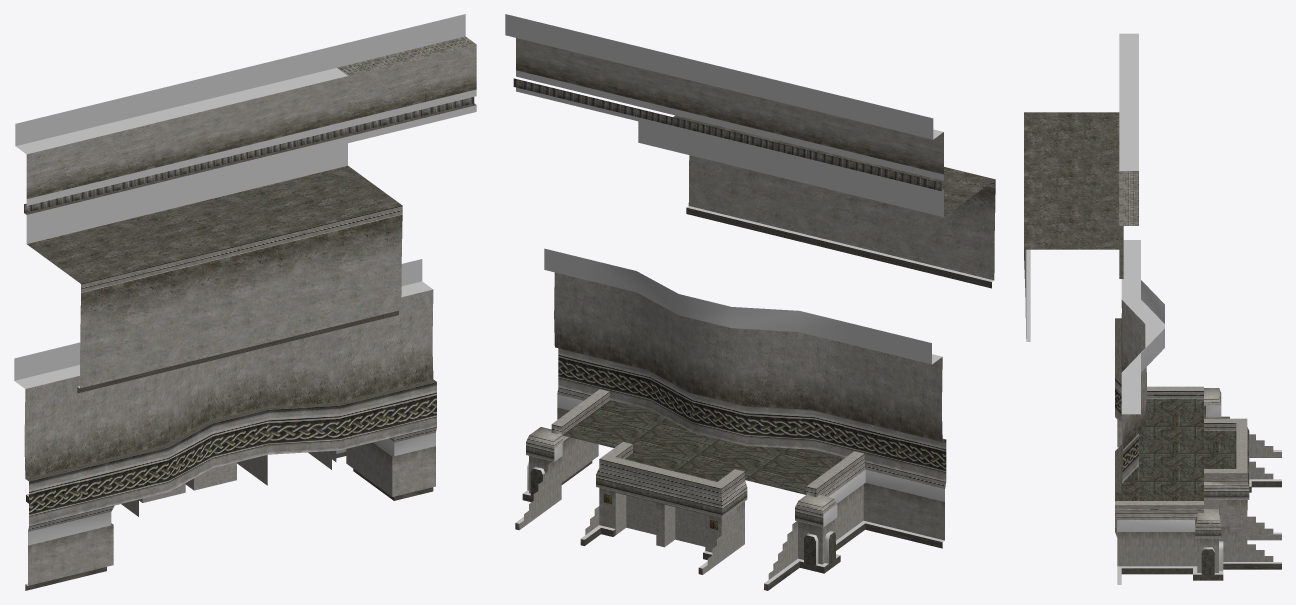
Rendered from DWARF_PALACE_MAINHALL_WALL01C.obj.
3 renders of one model, left to right at view 1: azimuth 30°, elevation 25°; view 2: azimuth 150°, elevation 25°; view 3: azimuth 270°, elevation 25°, orthographic. The views are drawn at different scales.
Visible parts, largest first — view 1: ainhall_wall01C; view 2: ainhall_wall01C; view 3: ainhall_wall01C.
Boxes of the visible parts, x1=… form: ainhall_wall01C: x1=14, y1=14, x2=476, y2=590; ainhall_wall01C: x1=505, y1=14, x2=995, y2=590; ainhall_wall01C: x1=1024, y1=33, x2=1281, y2=584.
Bounding box in the file's own units: 2100 × 2050 × 1190.
